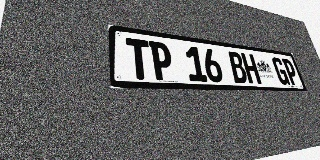1: (184, 45, 208, 82)
6: (201, 48, 224, 83)
B: (227, 51, 249, 83)
G: (271, 57, 290, 85)
H: (241, 53, 262, 84)
P: (149, 41, 174, 81), (281, 58, 300, 85)
T: (126, 38, 152, 80)
